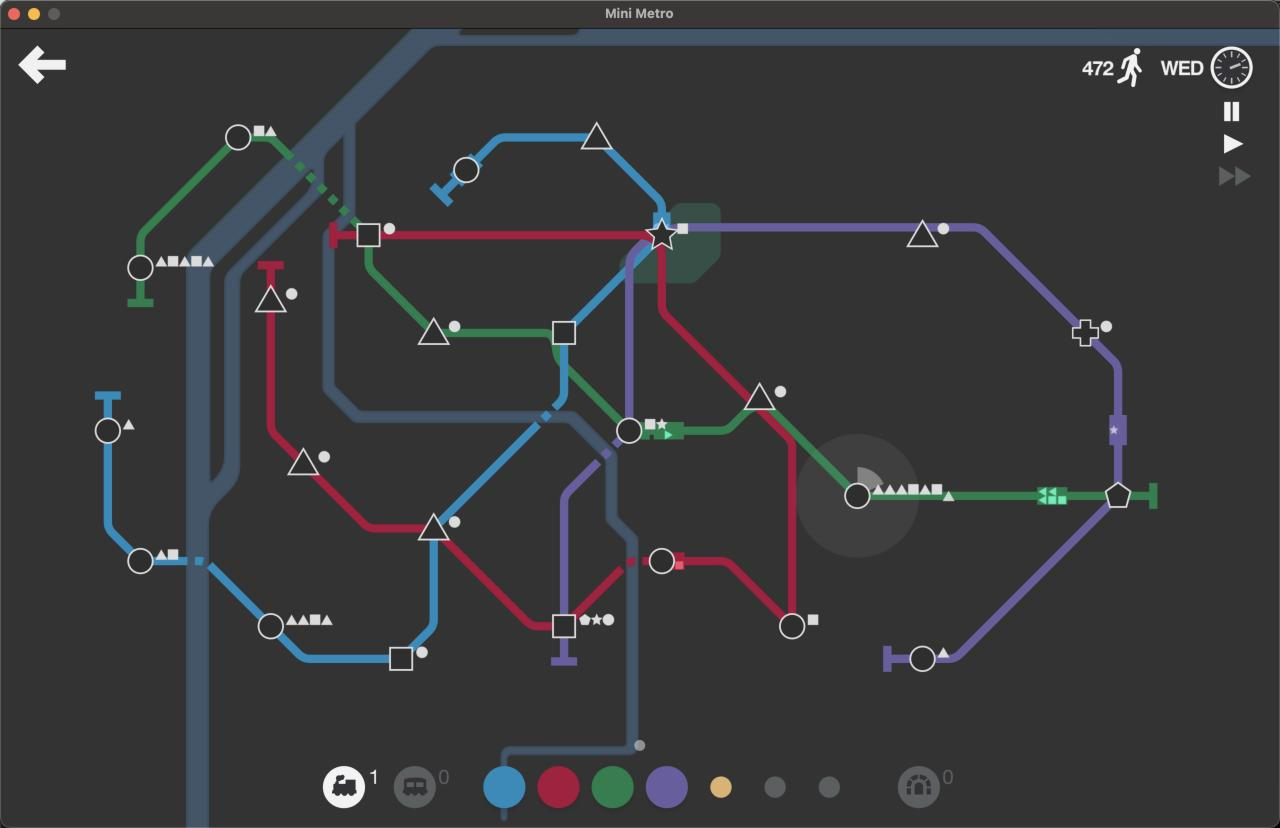CIRCLE: (778, 612, 806, 641), (843, 481, 871, 510), (648, 547, 676, 575), (614, 417, 642, 445), (224, 123, 252, 151), (452, 156, 480, 184), (94, 416, 122, 444), (909, 645, 936, 673), (257, 612, 284, 640), (127, 547, 154, 575), (127, 253, 154, 281)
CROSS: (1071, 318, 1100, 346)
PENTAGON: (1105, 481, 1131, 508)
SQUARE: (551, 612, 577, 640), (356, 221, 381, 248), (389, 645, 414, 672), (551, 320, 577, 345)
STAR: (644, 218, 678, 251)
TRIANGLE: (417, 511, 452, 542), (416, 316, 451, 347), (742, 382, 778, 412), (581, 120, 613, 151), (906, 219, 939, 249), (254, 285, 288, 314), (287, 447, 319, 477), (123, 419, 135, 430)
